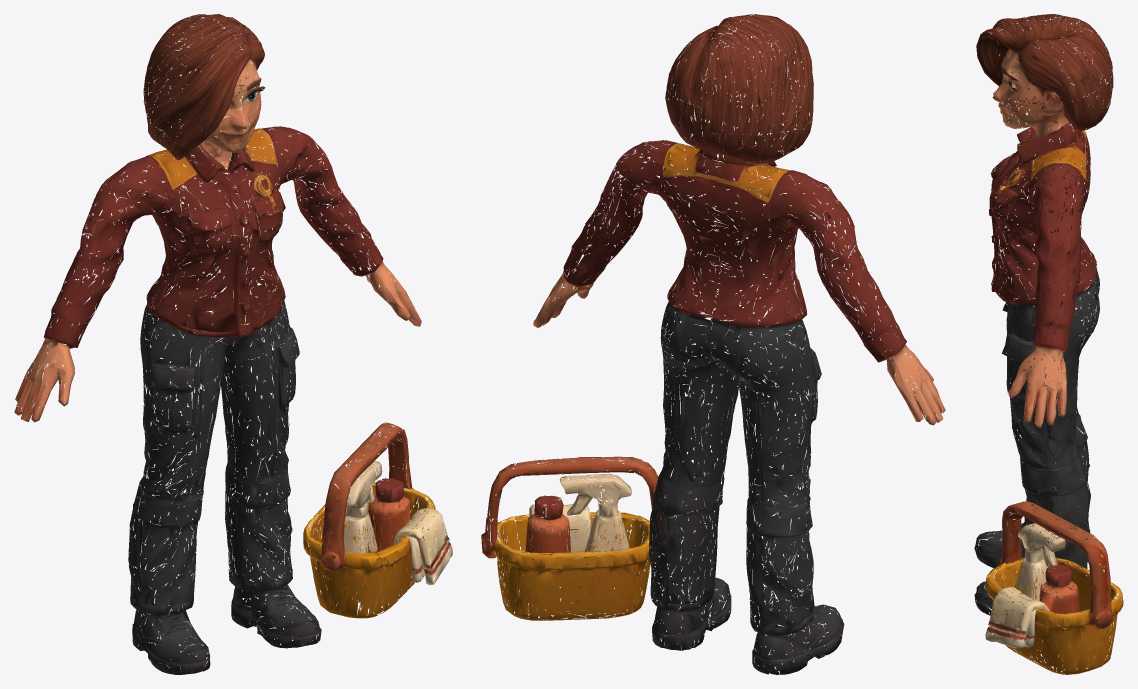
File: lantern-cleaner.glb
3 renders of one model, left to right at view 1: azimuth 30°, elevation 25°; view 2: azimuth 150°, elevation 25°; view 3: azimuth 270°, elevation 25°, orthographic. The views are drawn at different scales.
Parts seen in each view (by area): view 1: tripo_node_3ef69505-f148-4eea-9e6b-ff4afac5f1c0; view 2: tripo_node_3ef69505-f148-4eea-9e6b-ff4afac5f1c0; view 3: tripo_node_3ef69505-f148-4eea-9e6b-ff4afac5f1c0.
Part boxes in pixels (box(x1,y1,x2,y2)): tripo_node_3ef69505-f148-4eea-9e6b-ff4afac5f1c0: box(14, 14, 452, 674); tripo_node_3ef69505-f148-4eea-9e6b-ff4afac5f1c0: box(481, 14, 945, 674); tripo_node_3ef69505-f148-4eea-9e6b-ff4afac5f1c0: box(974, 14, 1123, 674).
Size of the model in its own units: 0.7046 by 0.9794 by 0.2331.
1 material, 1 textured.
